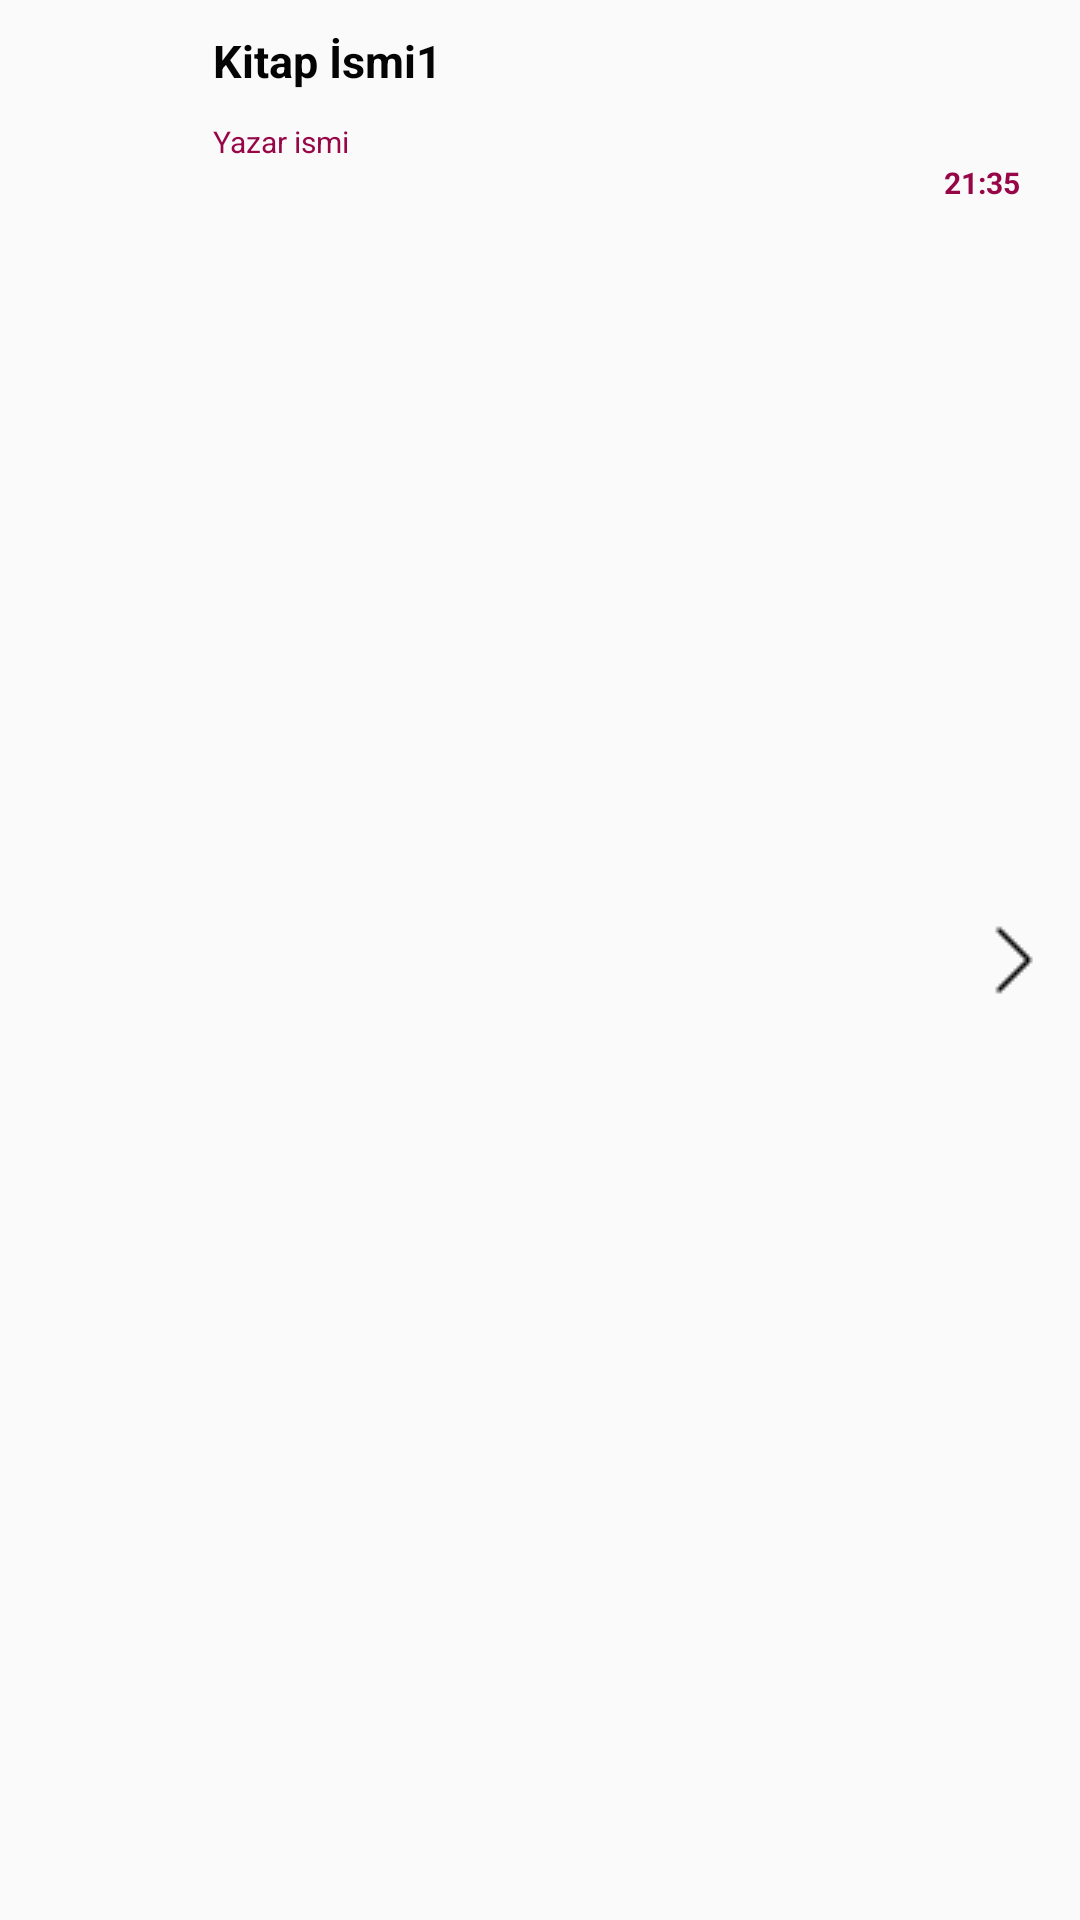

Icon bounding boxes for this 1080*1920 phone screenshot, format (x1, y1, x2, y2):
right: (995, 926, 1033, 994)
